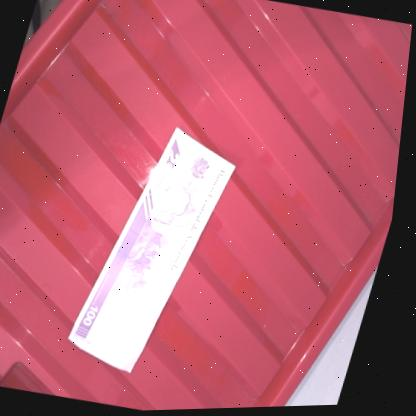one_hundred-back-vef: (64, 115, 250, 384)
